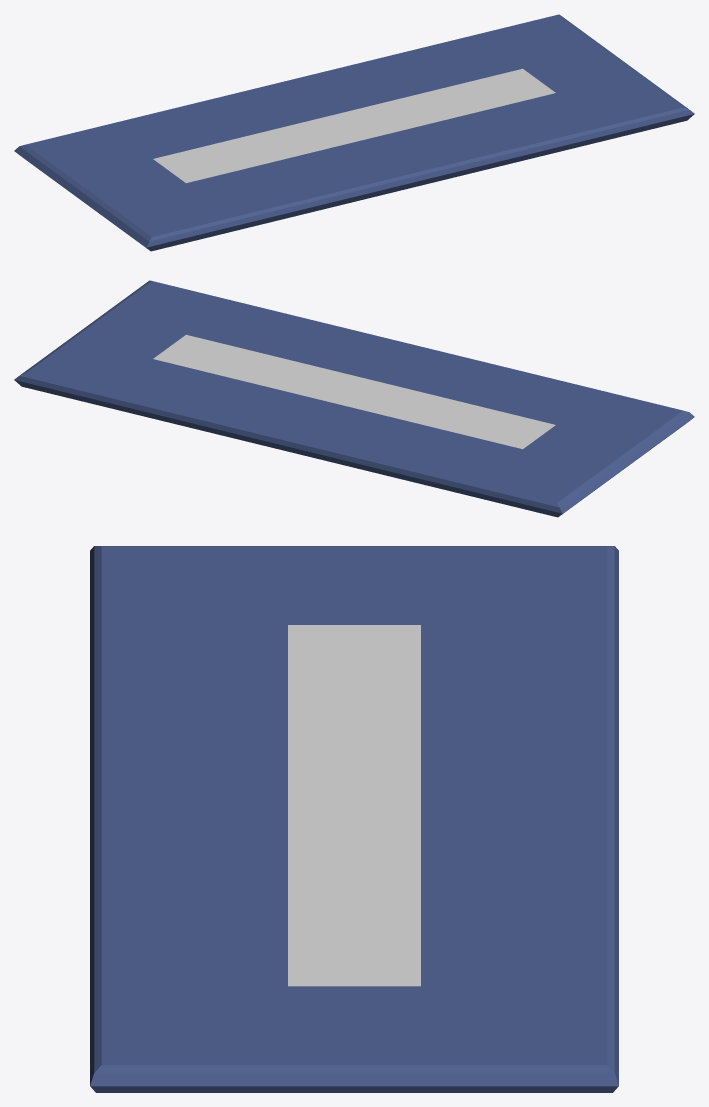
File: carpetA.gltf
The picture shows the model from 3 angles, top to bottom: view 1: azimuth 30°, elevation 25°; view 2: azimuth 150°, elevation 25°; view 3: azimuth 270°, elevation 25°; orthographic projection. The views are drawn at different scales.
Parts seen in each view (by area): view 1: Carpet B; view 2: Carpet B; view 3: Carpet B.
Boxes of the visible parts, x1=… form: Carpet B: x1=14, y1=14, x2=694, y2=251; Carpet B: x1=14, y1=280, x2=694, y2=517; Carpet B: x1=90, y1=546, x2=618, y2=1092.
Size of the model in its own units: 11.7 by 0.2609 by 4.88.
